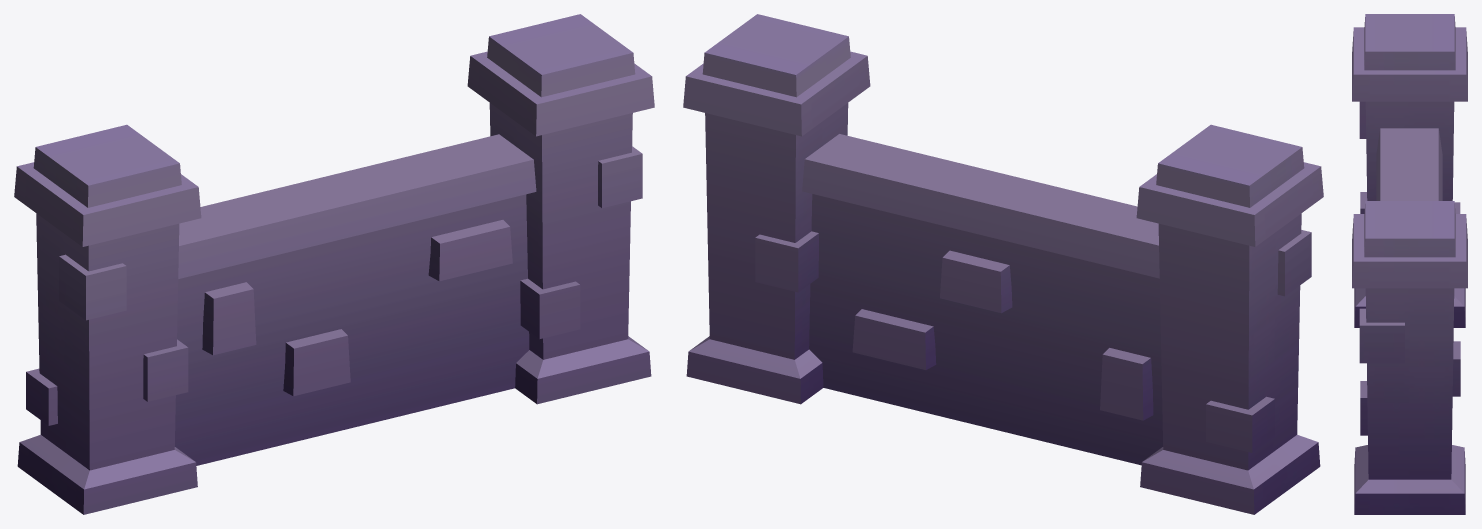
Rendered from wall.glb.
The picture shows the model from 3 angles, left to right: view 1: azimuth 30°, elevation 25°; view 2: azimuth 150°, elevation 25°; view 3: azimuth 270°, elevation 25°; orthographic projection. The views are drawn at different scales.
Parts seen in each view (by area): view 1: wall; view 2: wall; view 3: wall.
Boxes of the visible parts, x1,y1,x2,y2 form: wall: [14, 14, 654, 514]; wall: [683, 14, 1323, 514]; wall: [1352, 14, 1467, 514].
Size of the model in its own units: 4.44 by 2.39 by 0.9217.
Materials: 1 (1 with a texture image).
